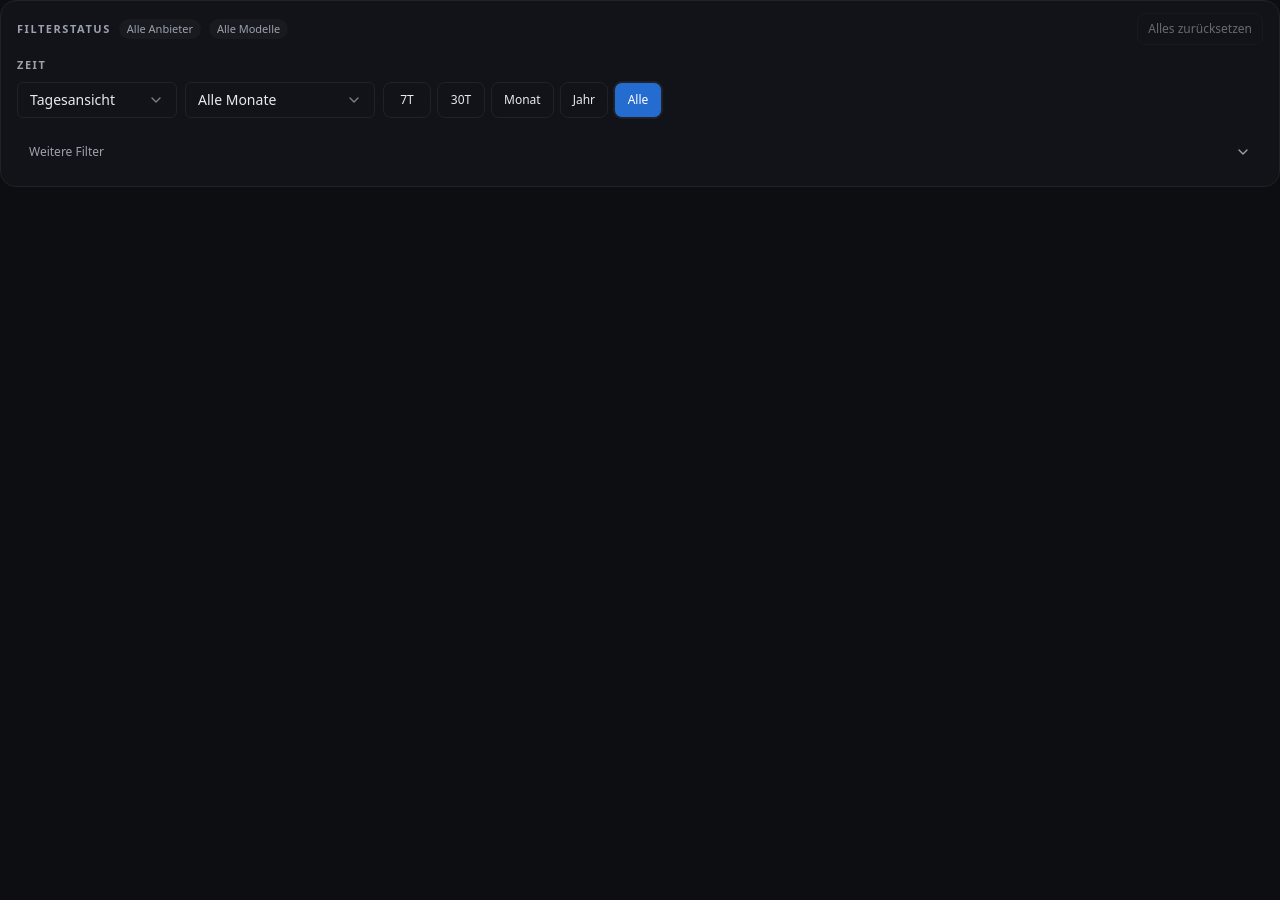
Scenario: FilterBar accessibility › localizes the calendar month navigation aria labels
This screenshot has width=1280, height=900.
Click the button "Weitere Filter" at [66, 151], box [17,130,1263,174]
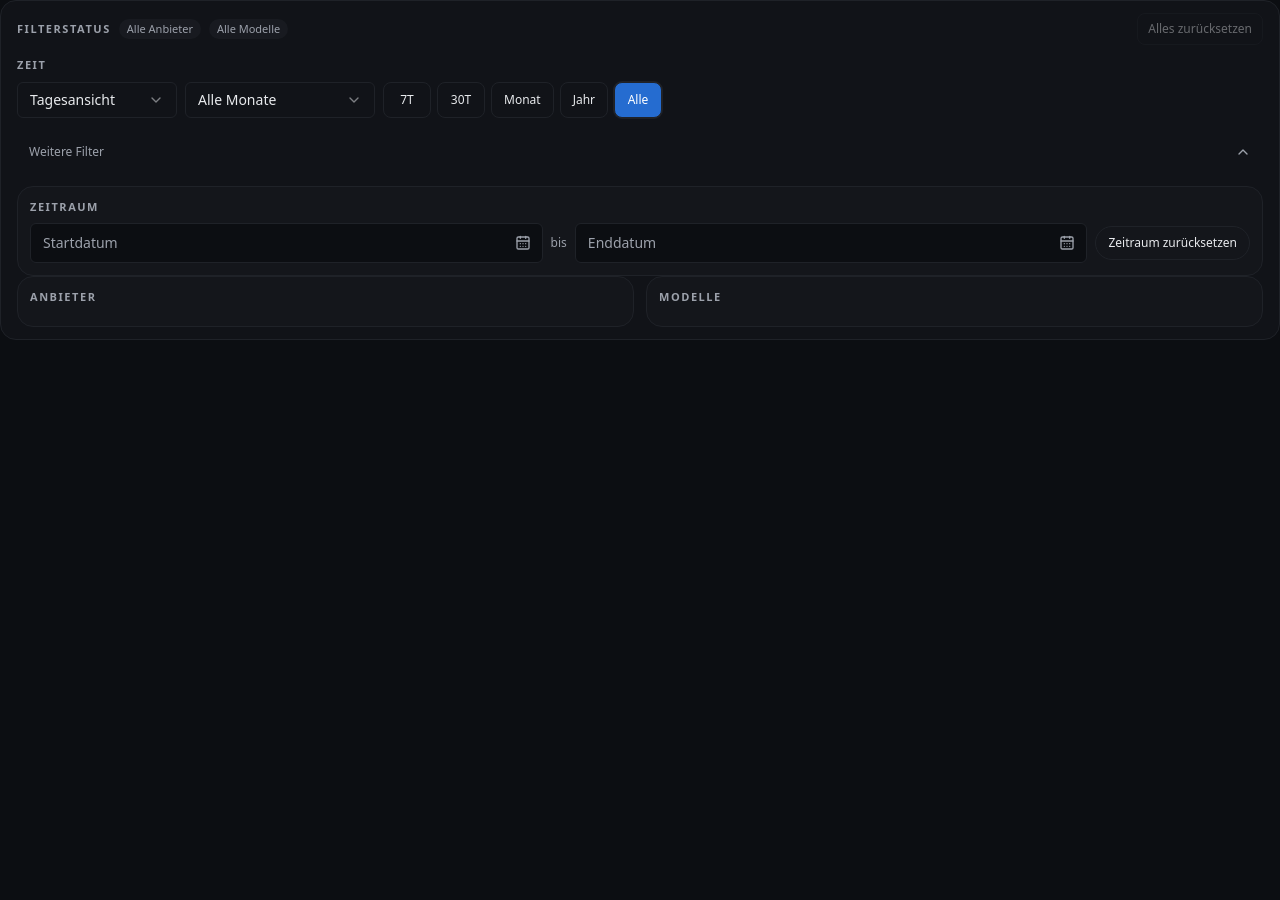
Click the button "Startdatum" at [80, 242], box [30,223,543,263]
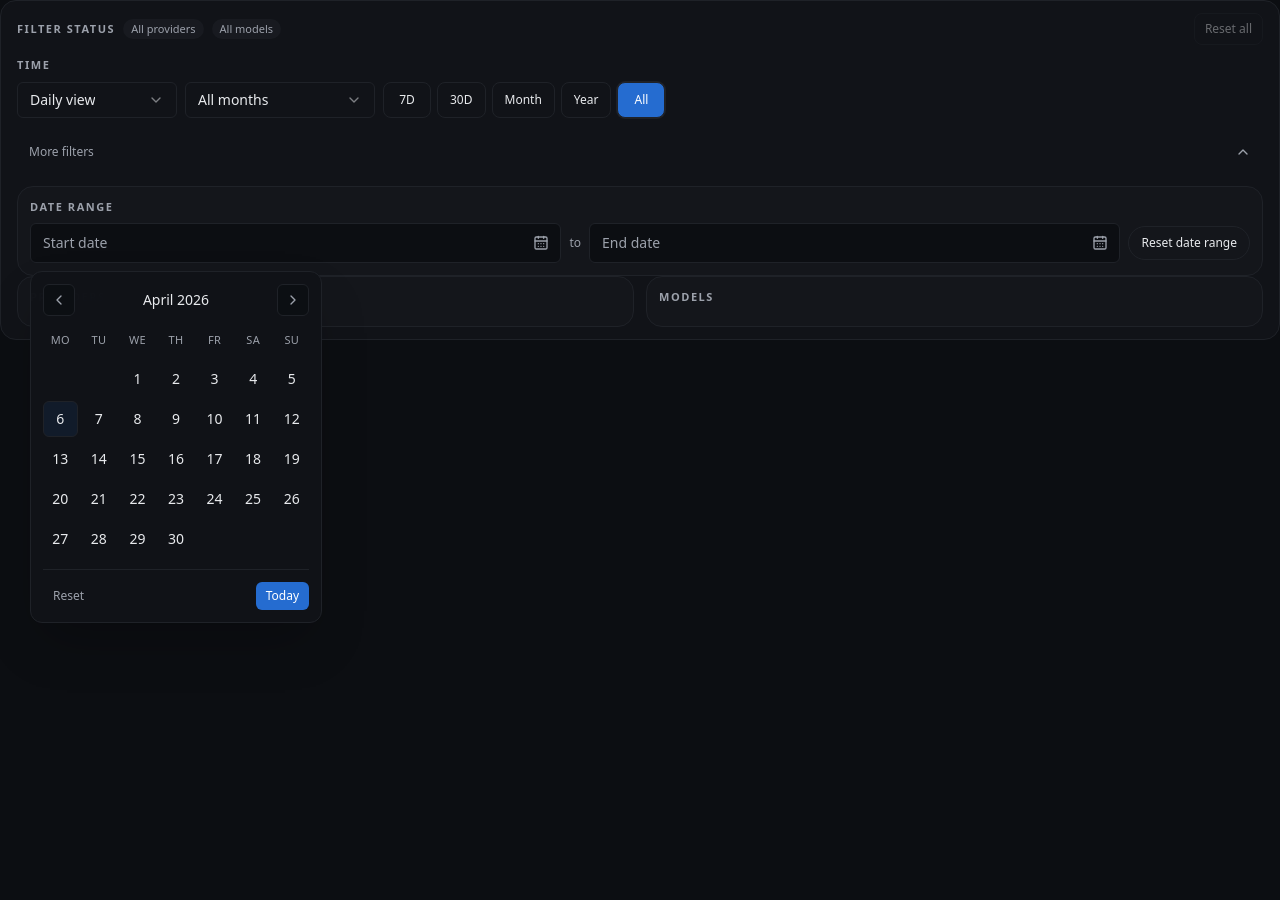
Now the button named "Vorheriger Monat" is shown, box [43,284,75,316]
Now the button named "Nächster Monat" is shown, box [277,284,309,316]
